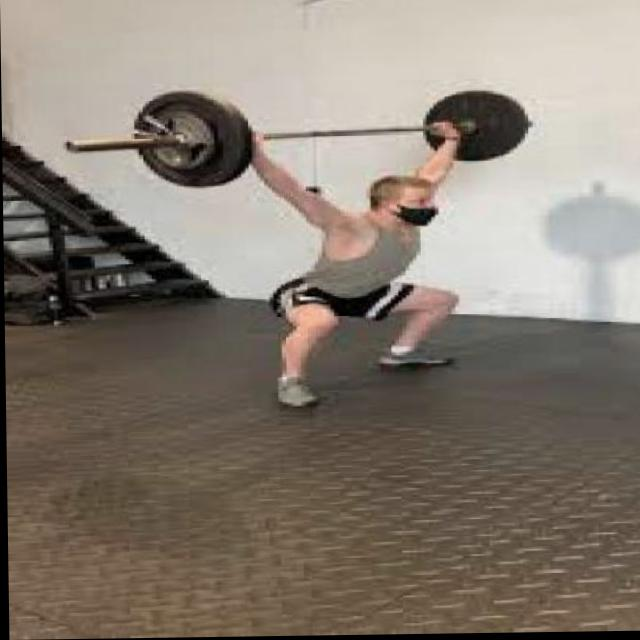barbell: (46, 91, 246, 192)
